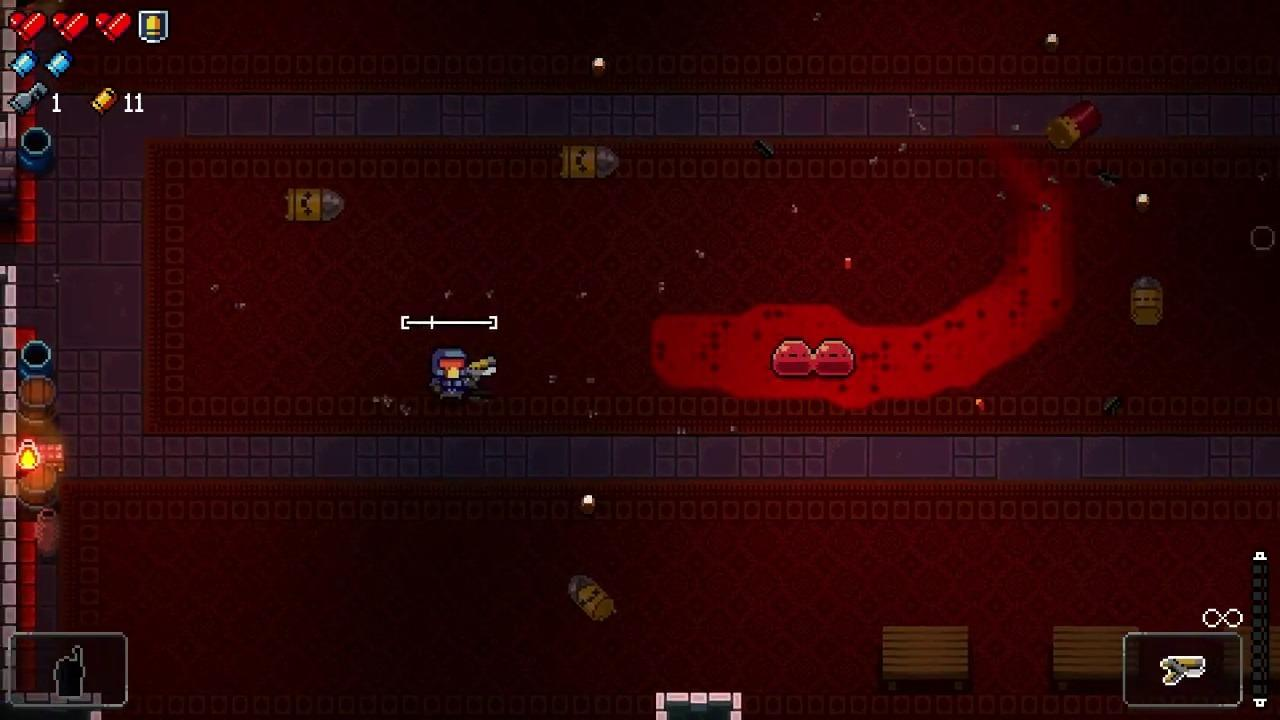blobuloid_m: (772, 336, 815, 378), (813, 339, 854, 378)
dead_bullet_kin: (568, 573, 617, 622), (556, 144, 621, 179), (281, 189, 346, 223), (1129, 275, 1164, 330)
player: (431, 348, 468, 401)
table: (1051, 627, 1140, 686), (883, 627, 968, 688)
